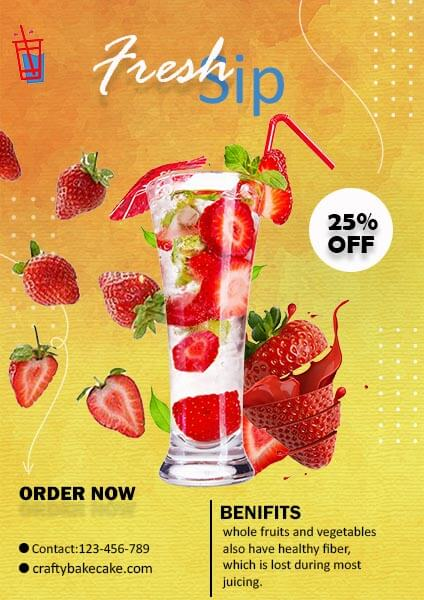CTA: (20, 483, 134, 503)
Price: (327, 210, 378, 256)
Product: (143, 167, 327, 483)
logo: (102, 37, 283, 118)
